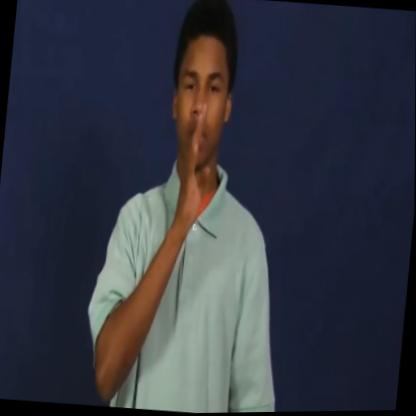Talk: (136, 0, 274, 291)
